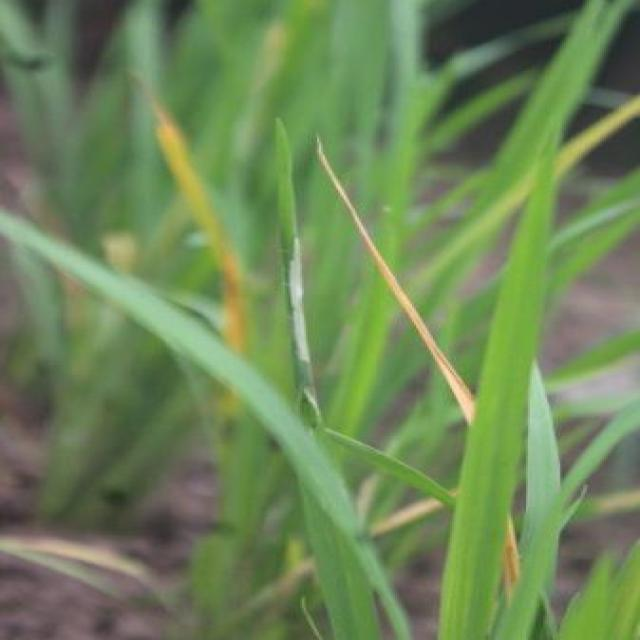Rice Tungro: (307, 143, 394, 284), (383, 308, 470, 406), (498, 522, 528, 594)
